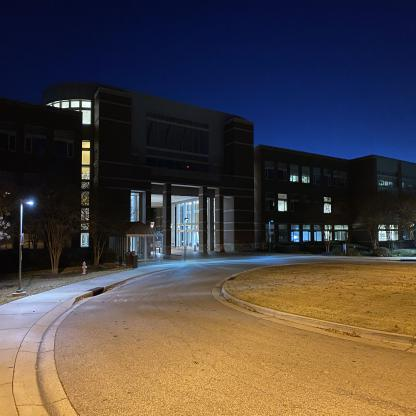eb2: (6, 74, 416, 258)
